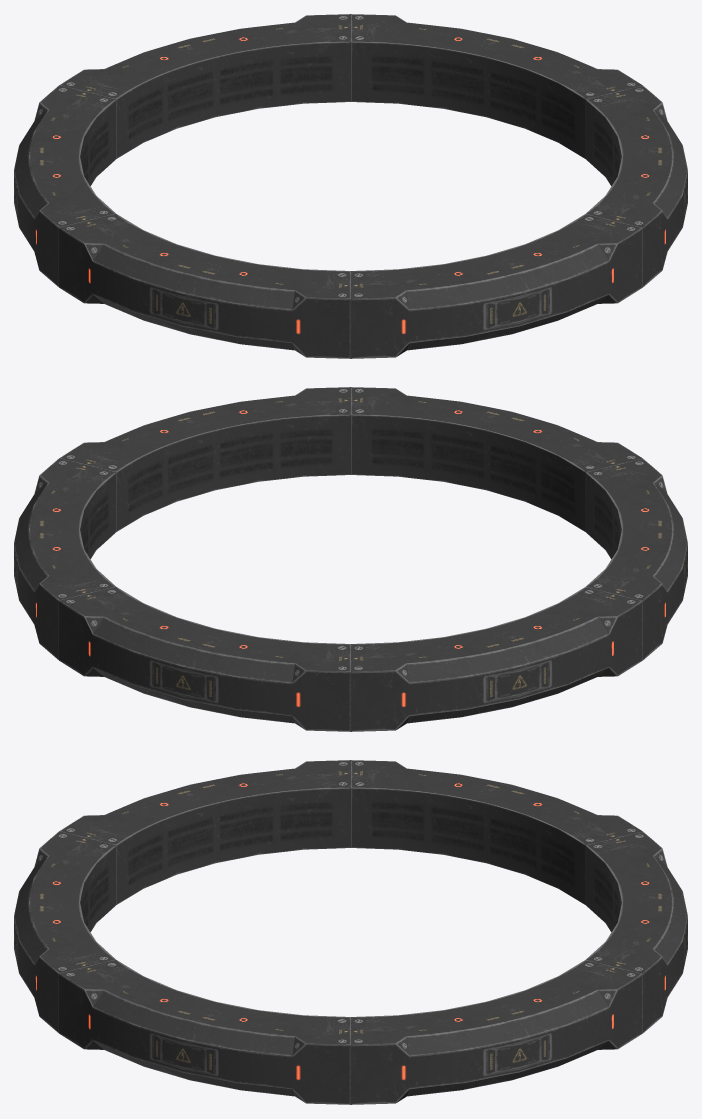
Rendered from circular_pad.glb.
3 renders of one model, top to bottom at view 1: azimuth 30°, elevation 25°; view 2: azimuth 150°, elevation 25°; view 3: azimuth 270°, elevation 25°, orthographic.
Visible parts, largest first — view 1: Base_LP; view 2: Base_LP; view 3: Base_LP.
Boxes of the visible parts, box(x1,y1,x2,y2) form: Base_LP: box(14, 14, 687, 358); Base_LP: box(14, 387, 687, 731); Base_LP: box(14, 760, 687, 1104).
Bounding box in the file's own units: 357 × 35 × 357.
Materials: 1 (1 with a texture image).
